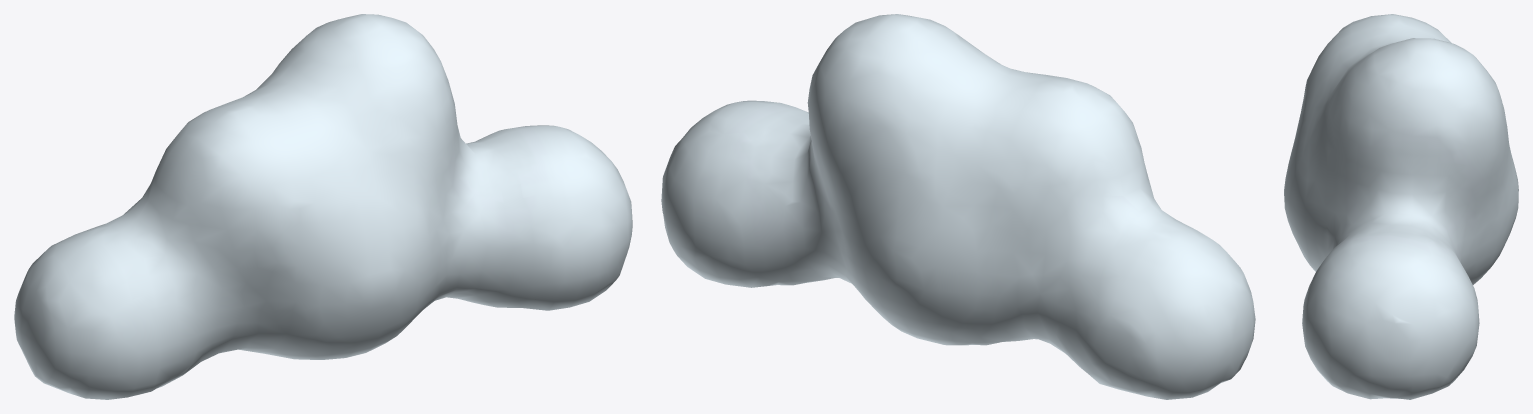
The model's file is cloud_c.glb.
The picture shows the model from 3 angles, left to right: view 1: azimuth 30°, elevation 25°; view 2: azimuth 150°, elevation 25°; view 3: azimuth 270°, elevation 25°; orthographic projection. The views are drawn at different scales.
Visible parts, largest first — view 1: cloud_c; view 2: cloud_c; view 3: cloud_c.
Part boxes in pixels (x1,y1,x2,y2): cloud_c: (14, 14, 632, 399); cloud_c: (661, 14, 1255, 399); cloud_c: (1284, 14, 1518, 399).
Bounding box in the file's own units: 2.29 × 1.1 × 0.8809.
Materials: 1 (1 with a texture image).
